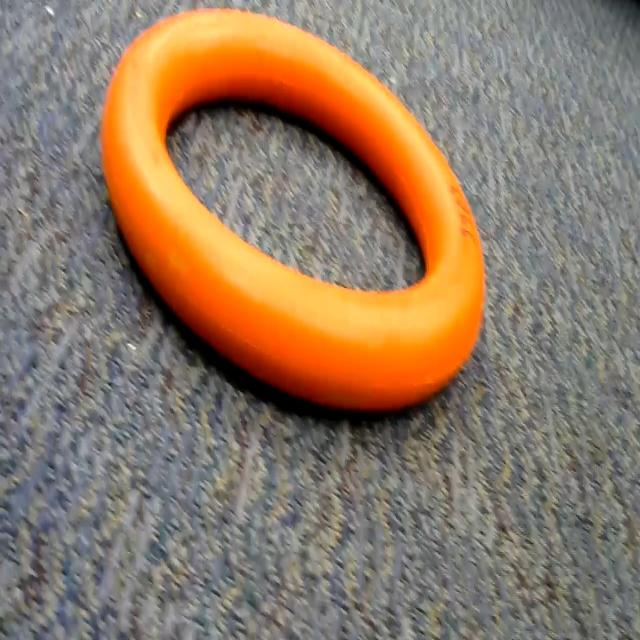note: (85, 3, 505, 448)
